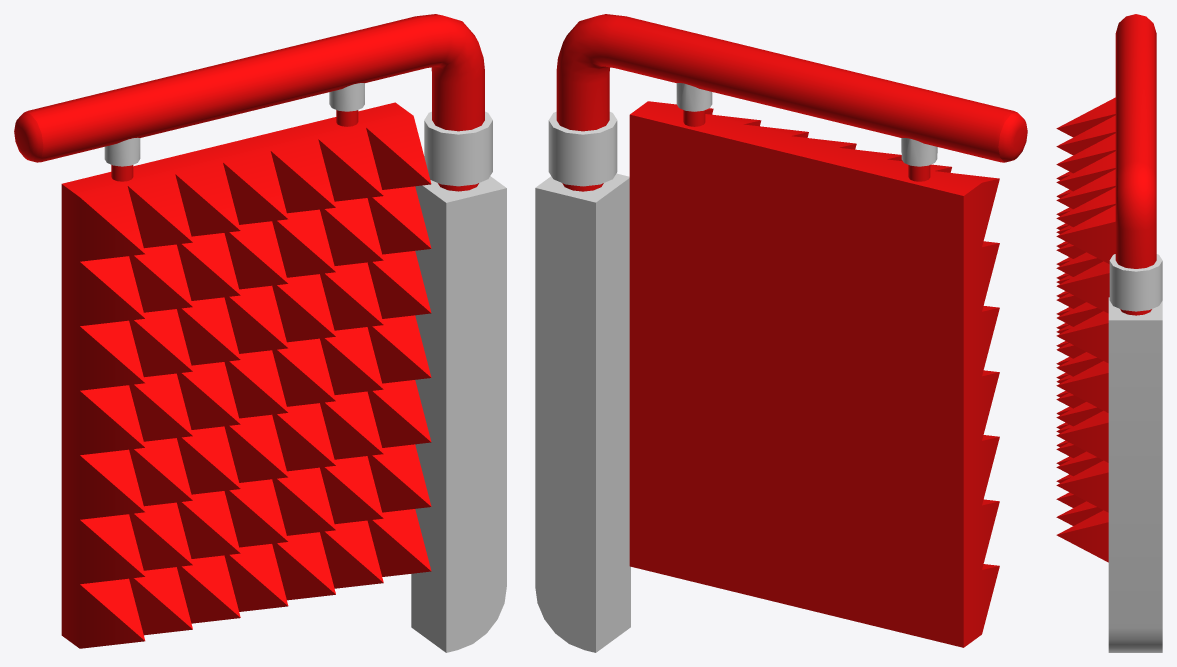
File: spike_obstacle.fbx
3 renders of one model, left to right at view 1: azimuth 30°, elevation 25°; view 2: azimuth 150°, elevation 25°; view 3: azimuth 270°, elevation 25°, orthographic. The views are drawn at different scales.
Visible parts, largest first — view 1: interactablespike_obstacle, spikestand_obstacle; view 2: interactablespike_obstacle, spikestand_obstacle; view 3: interactablespike_obstacle, spikestand_obstacle.
Boxes of the visible parts, bbox=[...] form: interactablespike_obstacle: bbox=[14, 14, 492, 648]; spikestand_obstacle: bbox=[411, 176, 506, 652]; interactablespike_obstacle: bbox=[548, 14, 1027, 647]; spikestand_obstacle: bbox=[535, 173, 630, 652]; interactablespike_obstacle: bbox=[1056, 14, 1162, 562]; spikestand_obstacle: bbox=[1108, 297, 1162, 652].
Size of the model in its own units: 179 by 229 by 45.86.
